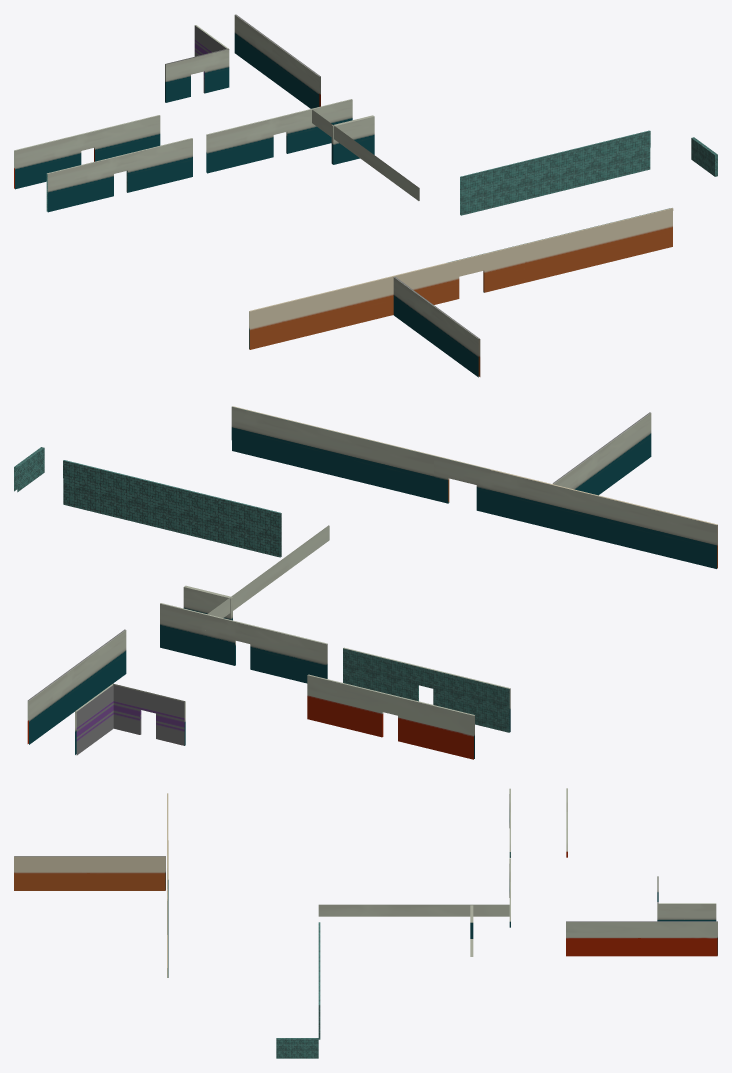
File: Walls.fbx
The picture shows the model from 3 angles, top to bottom: view 1: azimuth 30°, elevation 25°; view 2: azimuth 150°, elevation 25°; view 3: azimuth 270°, elevation 25°; orthographic projection. The views are drawn at different scales.
Visible parts, largest first — view 1: polySurface300, polySurface268, polySurface334, polySurface238, polySurface335, polySurface336, polySurface331, polySurface232, polySurface306, polySurface312, polySurface328, polySurface223; view 2: polySurface300, polySurface268, polySurface335, polySurface238, polySurface334, polySurface331, polySurface336, polySurface232, polySurface306, polySurface223, polySurface312, polySurface328; view 3: polySurface331, polySurface336, polySurface306, polySurface223, polySurface328.
Part boxes in pixels (x1,y1,x2,y2): polySurface300: [249, 208, 673, 349]; polySurface268: [460, 130, 650, 215]; polySurface334: [46, 138, 192, 212]; polySurface238: [206, 99, 352, 173]; polySurface335: [14, 115, 160, 189]; polySurface336: [393, 277, 480, 377]; polySurface331: [234, 14, 320, 108]; polySurface232: [165, 48, 229, 102]; polySurface306: [312, 110, 419, 200]; polySurface312: [331, 115, 374, 164]; polySurface328: [691, 137, 717, 176]; polySurface223: [194, 25, 227, 56]; polySurface300: [231, 406, 717, 568]; polySurface268: [63, 460, 281, 557]; polySurface335: [307, 674, 474, 759]; polySurface238: [160, 603, 327, 683]; polySurface334: [343, 647, 510, 732]; polySurface331: [27, 629, 126, 744]; polySurface336: [552, 412, 651, 495]; polySurface232: [112, 683, 185, 745]; polySurface306: [207, 525, 329, 617]; polySurface223: [75, 684, 113, 755]; polySurface312: [183, 585, 232, 620]; polySurface328: [14, 447, 44, 492]; polySurface331: [566, 921, 717, 956]; polySurface336: [14, 856, 165, 890]; polySurface306: [318, 904, 509, 916]; polySurface223: [658, 903, 716, 921]; polySurface328: [276, 1038, 318, 1058].
Size of the model in its own units: 88.32 by 6.14 by 111.
